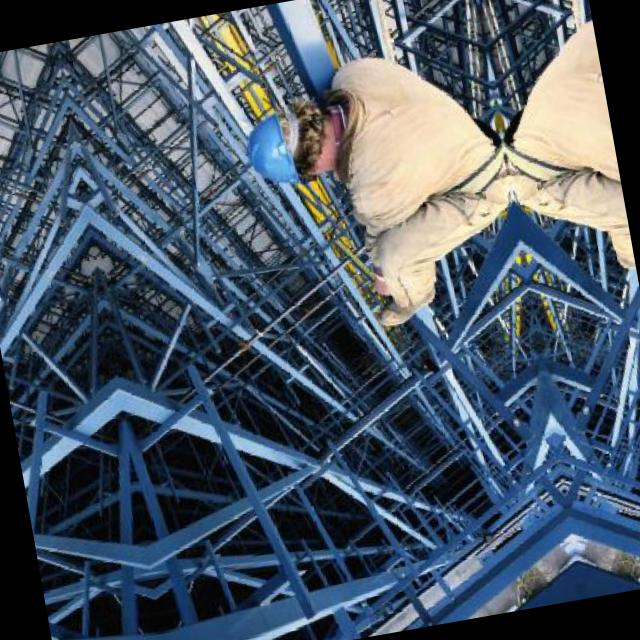helmet: (232, 100, 344, 195)
